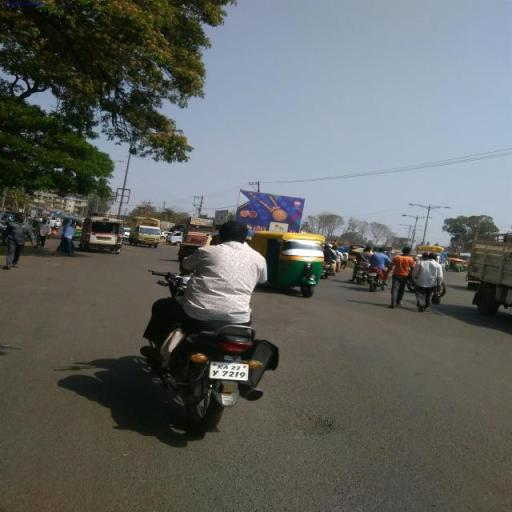numberplate: (209, 360, 252, 382)
using mobile: (210, 232, 224, 246)
